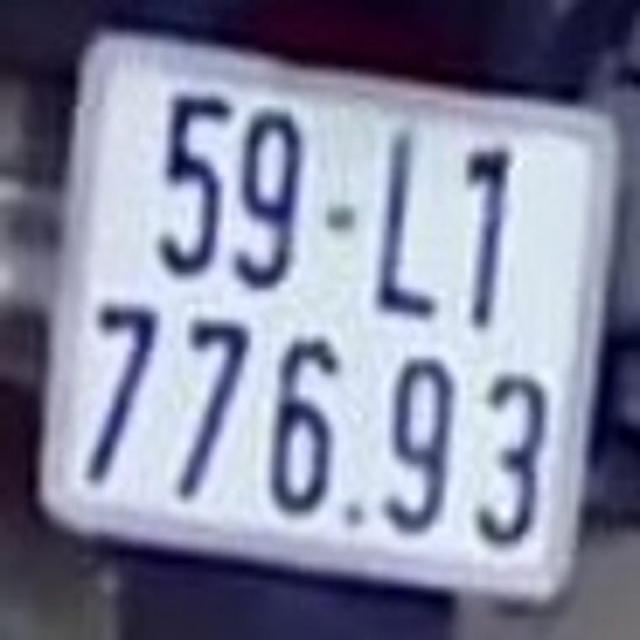1: (458, 142, 520, 324)
3: (473, 369, 547, 554)
5: (154, 88, 229, 277)
6: (266, 331, 338, 519)
7: (170, 314, 254, 504), (80, 296, 152, 484)
9: (380, 348, 454, 535), (234, 105, 303, 290)
L: (368, 121, 440, 320)
